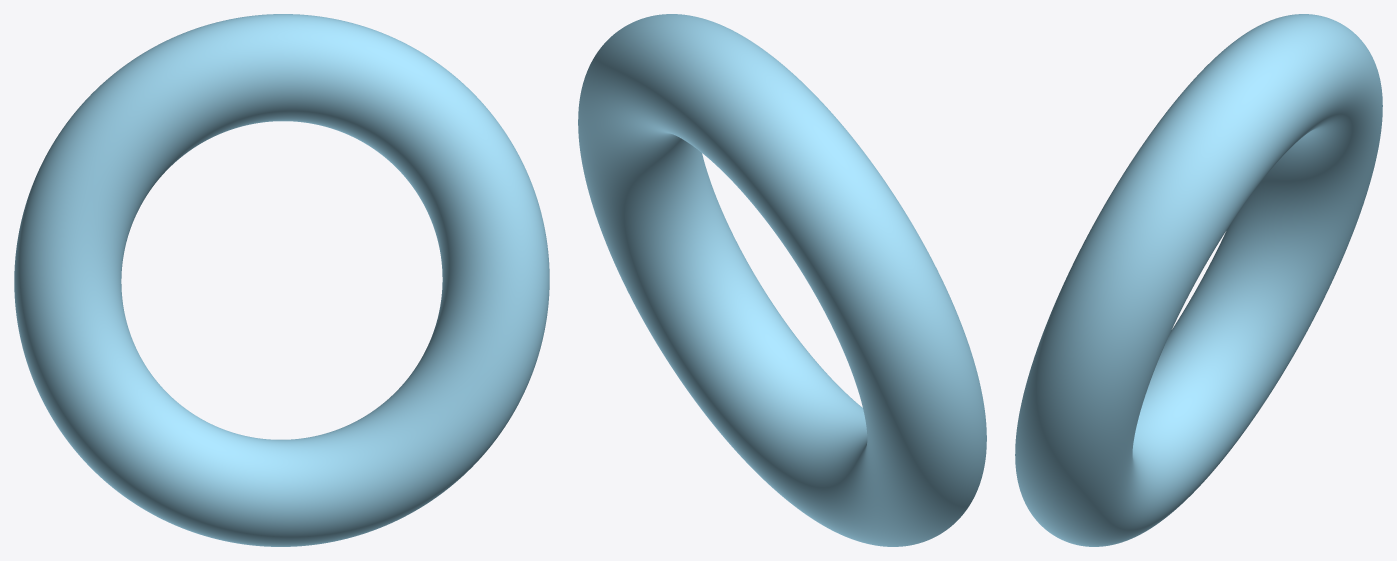
3 views of the same model, side by side, from view 1: azimuth 30°, elevation 25°; view 2: azimuth 150°, elevation 25°; view 3: azimuth 270°, elevation 25° (orthographic). The views are drawn at different scales.
Visible parts, largest first — view 1: Torus.002; view 2: Torus.002; view 3: Torus.002.
Part boxes in pixels (x1=…): Torus.002: x1=14, y1=14, x2=549, y2=546; Torus.002: x1=578, y1=14, x2=986, y2=546; Torus.002: x1=1015, y1=14, x2=1382, y2=546.
Size of the model in its own units: 2.3 by 2.4 by 1.57.
